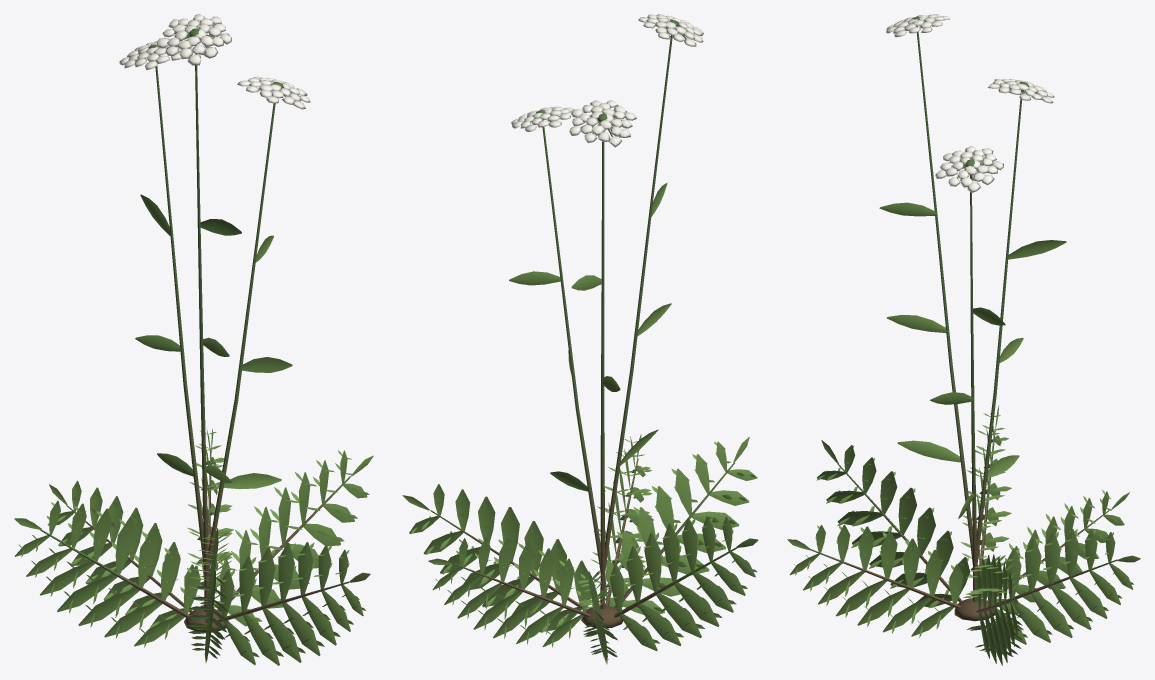
File: Yarrow.glb
The picture shows the model from 3 angles, left to right: view 1: azimuth 30°, elevation 25°; view 2: azimuth 150°, elevation 25°; view 3: azimuth 270°, elevation 25°; orthographic projection. The views are drawn at different scales.
Parts seen in each view (by area): view 1: Plant; view 2: Plant; view 3: Plant.
Boxes of the visible parts, x1,y1,x2,y2 form: Plant: [14, 14, 373, 665]; Plant: [402, 14, 758, 664]; Plant: [787, 14, 1140, 665].
Size of the model in its own units: 0.4037 by 0.6794 by 0.3644.
